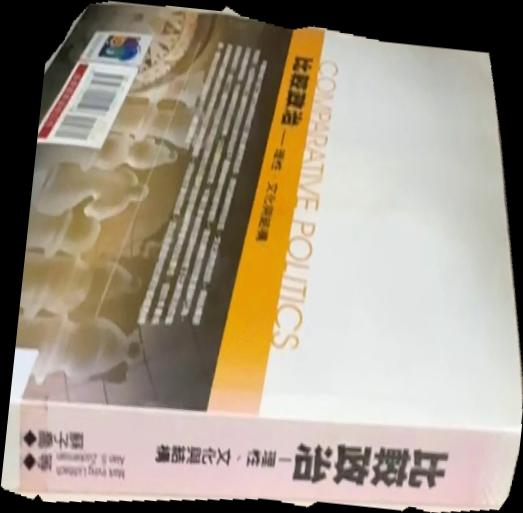flat: (1, 1, 523, 513)
